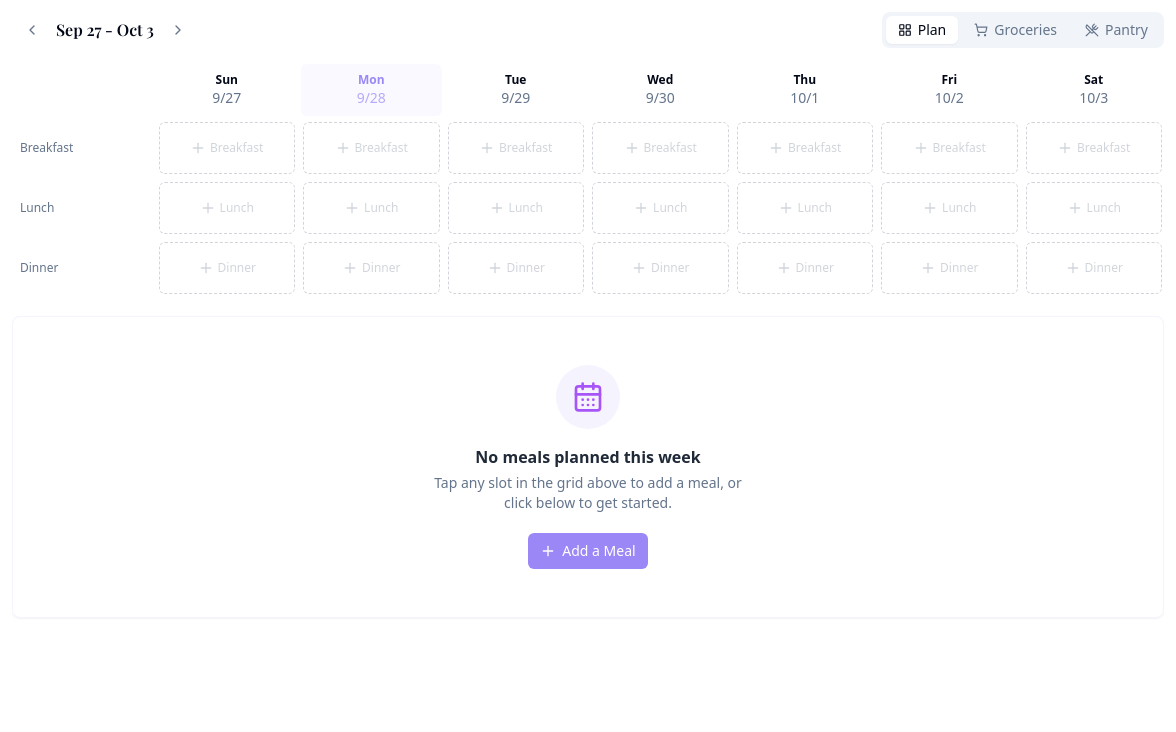
Test: MealPlanPage › navigates to current week with Today button
This screenshot has width=1176, height=732.
Click the button named "Previous week". click: (32, 30)
box: x1=12 y1=12 x2=52 y2=48
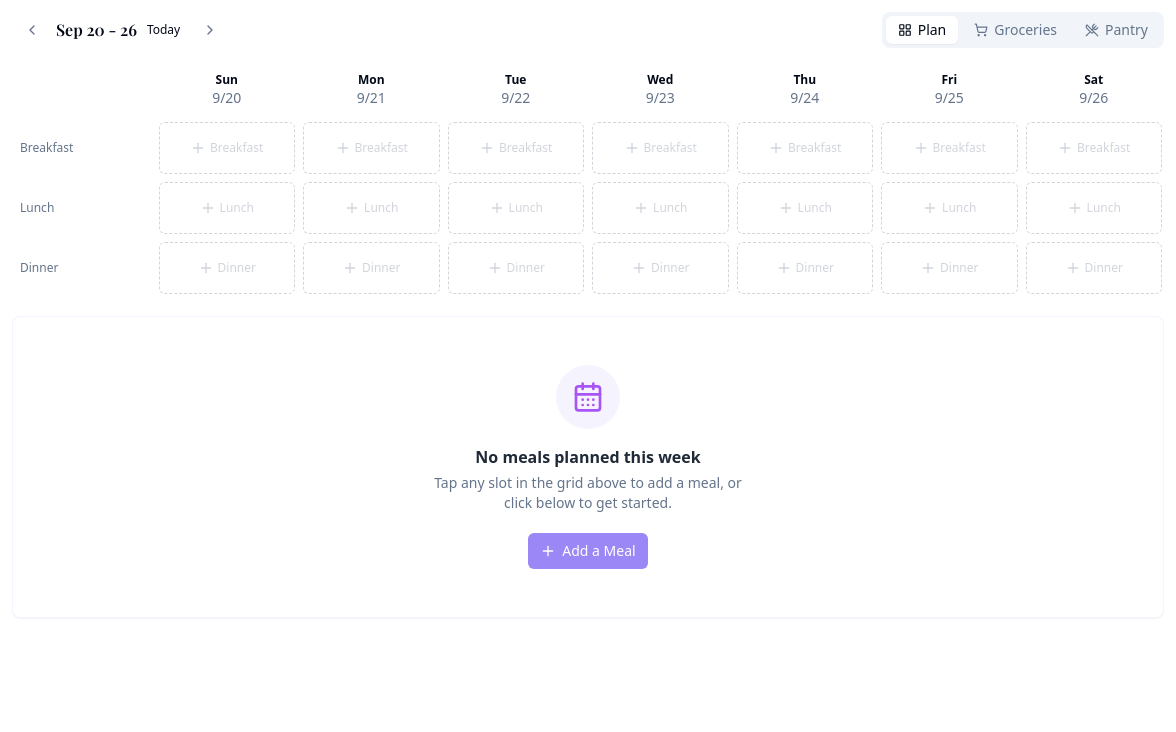
Result: the button "Today" is shown
Note: Click Today to go back to current week
Click the button "Today". click: (164, 30)
box: x1=141 y1=12 x2=186 y2=48
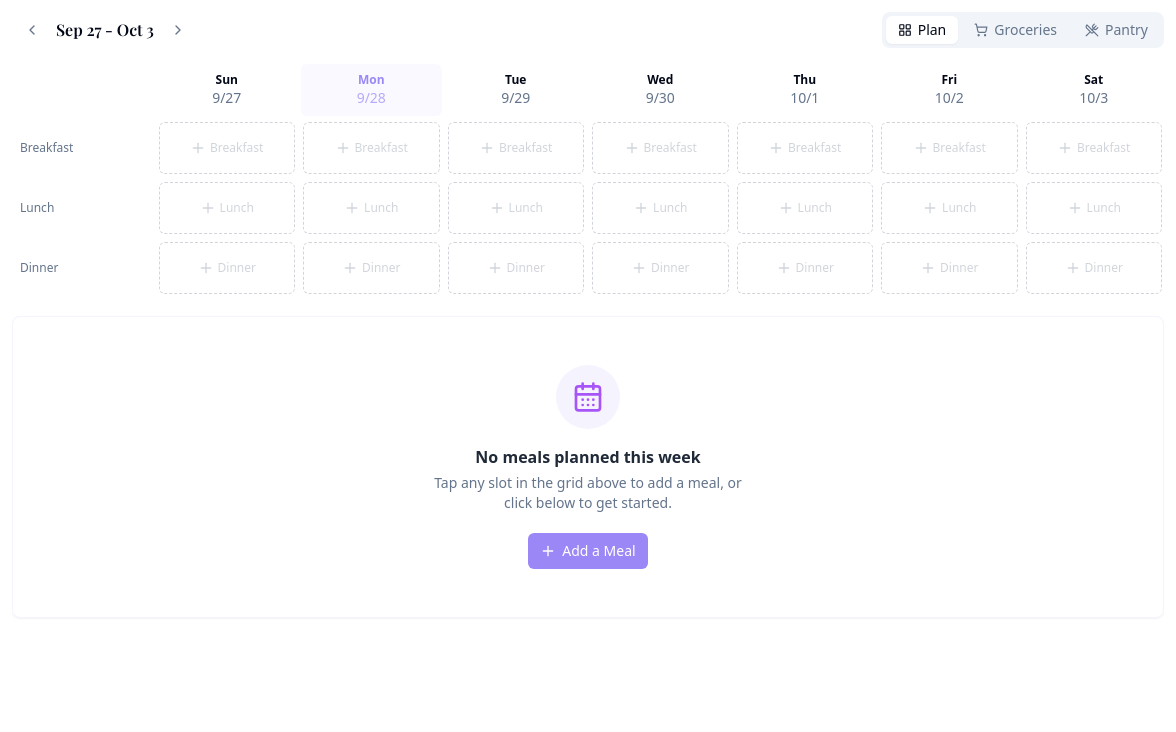
Result: the button "Today" is gone
